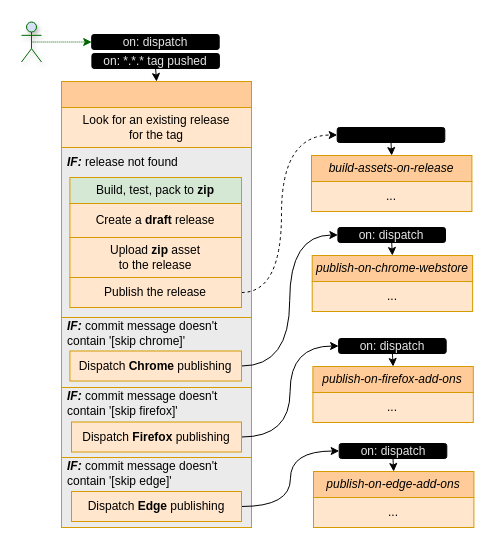
Some shapes in this 492 by 545 pixel diagram are drawn without their labels. Each missing label, with the centre of its shape:
on: release: (390,134)
publish-release-on-tag: (156,94)
